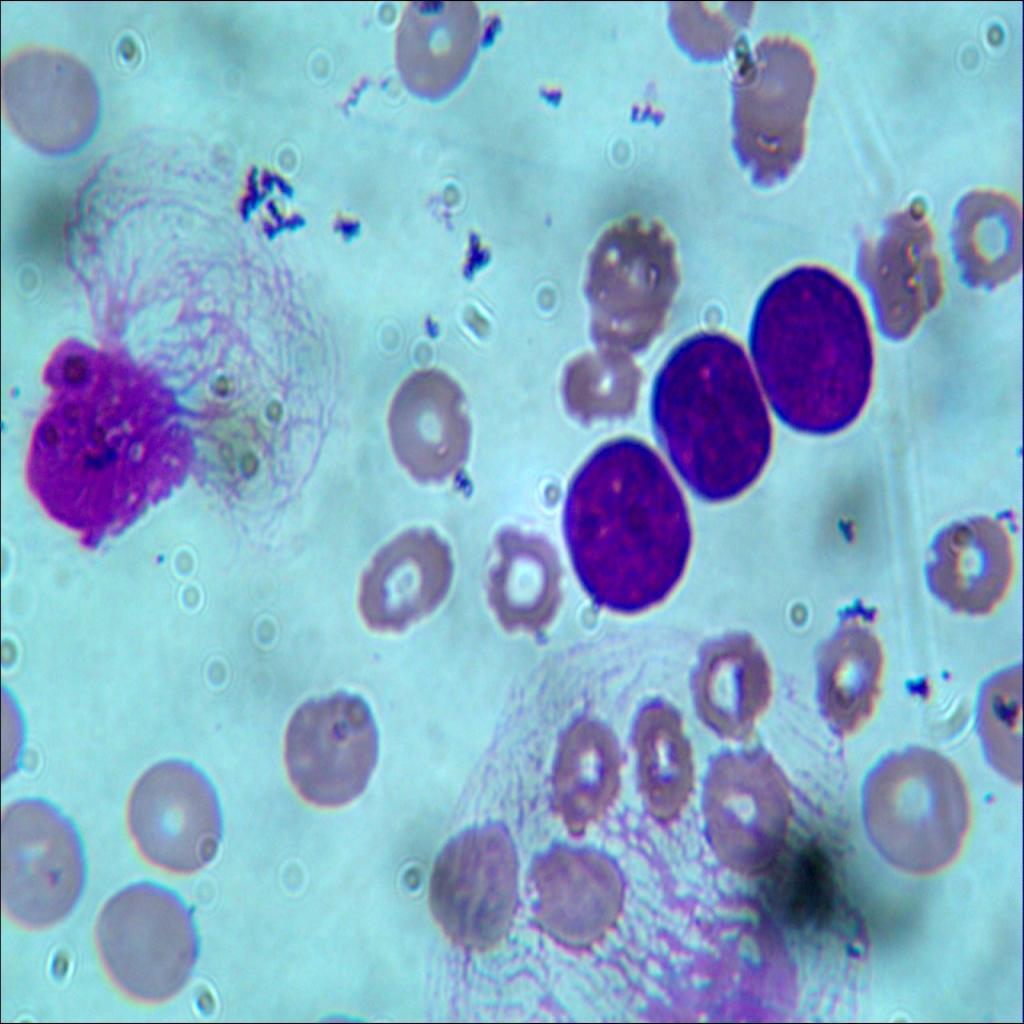Eritrosit: (422, 804, 528, 959), (866, 746, 978, 888), (90, 870, 204, 1007), (582, 211, 678, 352), (356, 517, 456, 652), (851, 196, 942, 342), (281, 682, 383, 810), (701, 745, 793, 882), (908, 504, 1018, 616), (386, 362, 478, 492), (0, 792, 86, 931), (0, 37, 102, 154), (734, 35, 818, 177), (540, 698, 630, 826), (526, 848, 631, 955), (124, 755, 218, 874), (688, 618, 773, 748), (622, 685, 699, 824), (386, 0, 494, 95), (482, 517, 566, 635), (938, 172, 1024, 287), (806, 622, 890, 738), (553, 322, 639, 431)
Limfoblast: (748, 263, 878, 445), (558, 442, 696, 612), (646, 325, 771, 506)
Platelet: (928, 664, 959, 687)
